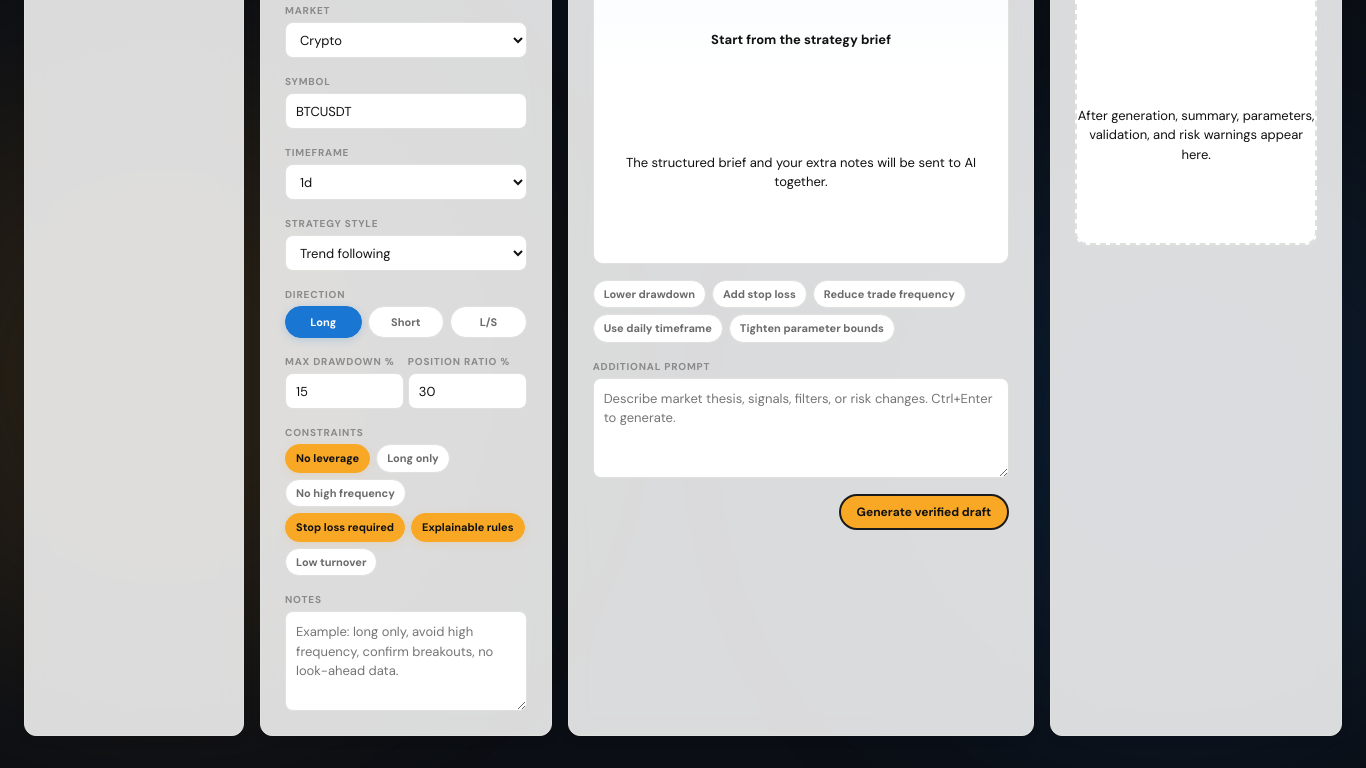
Test case: AiStrategyLabView › generates a draft and renders the verified draft panel
This screenshot has width=1366, height=768.
(page scrolled)
Replace the text in the text box with test id "ai-lab-prompt" with "Build a BTC trend strategy" at (801, 428), box x1=593 y1=378 x2=1009 y2=478
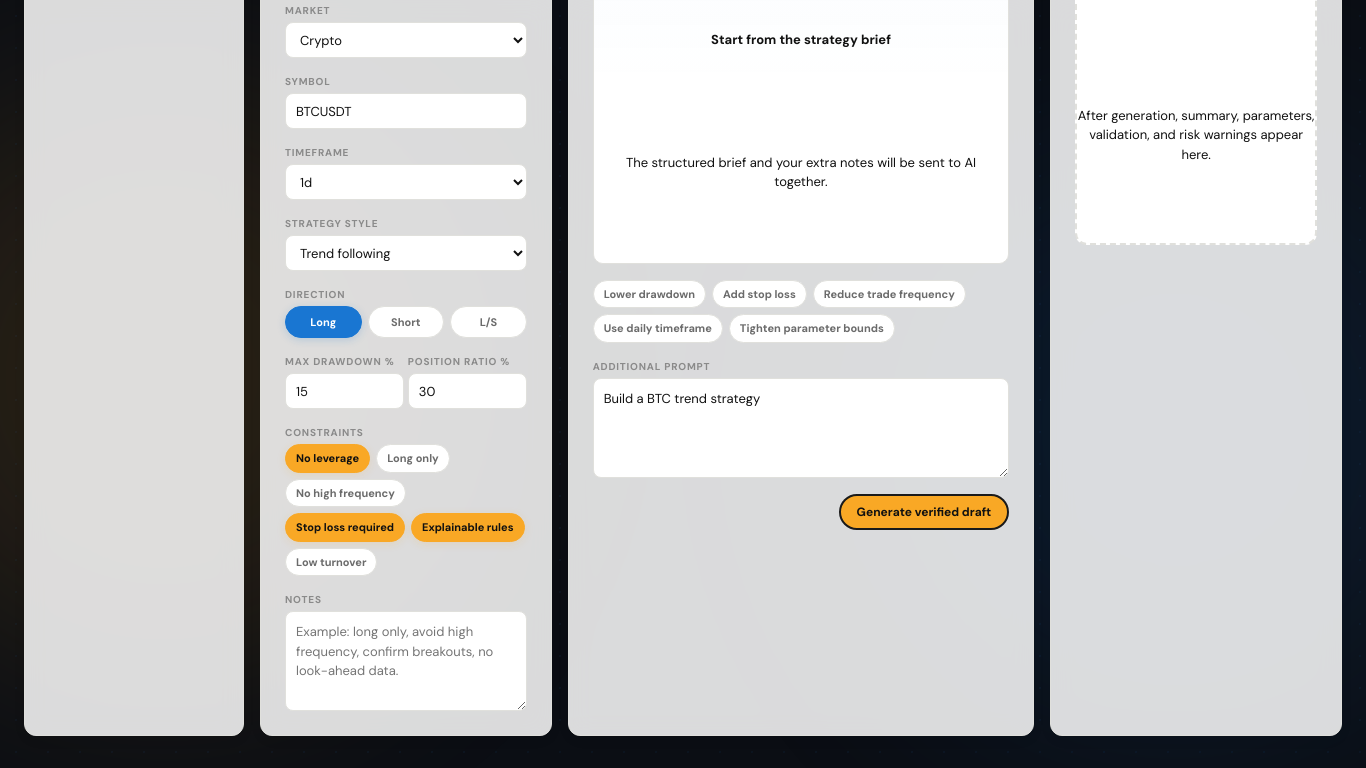
Click the button with test id "ai-lab-generate" at (924, 512), box x1=839 y1=494 x2=1009 y2=530
(page scrolled)
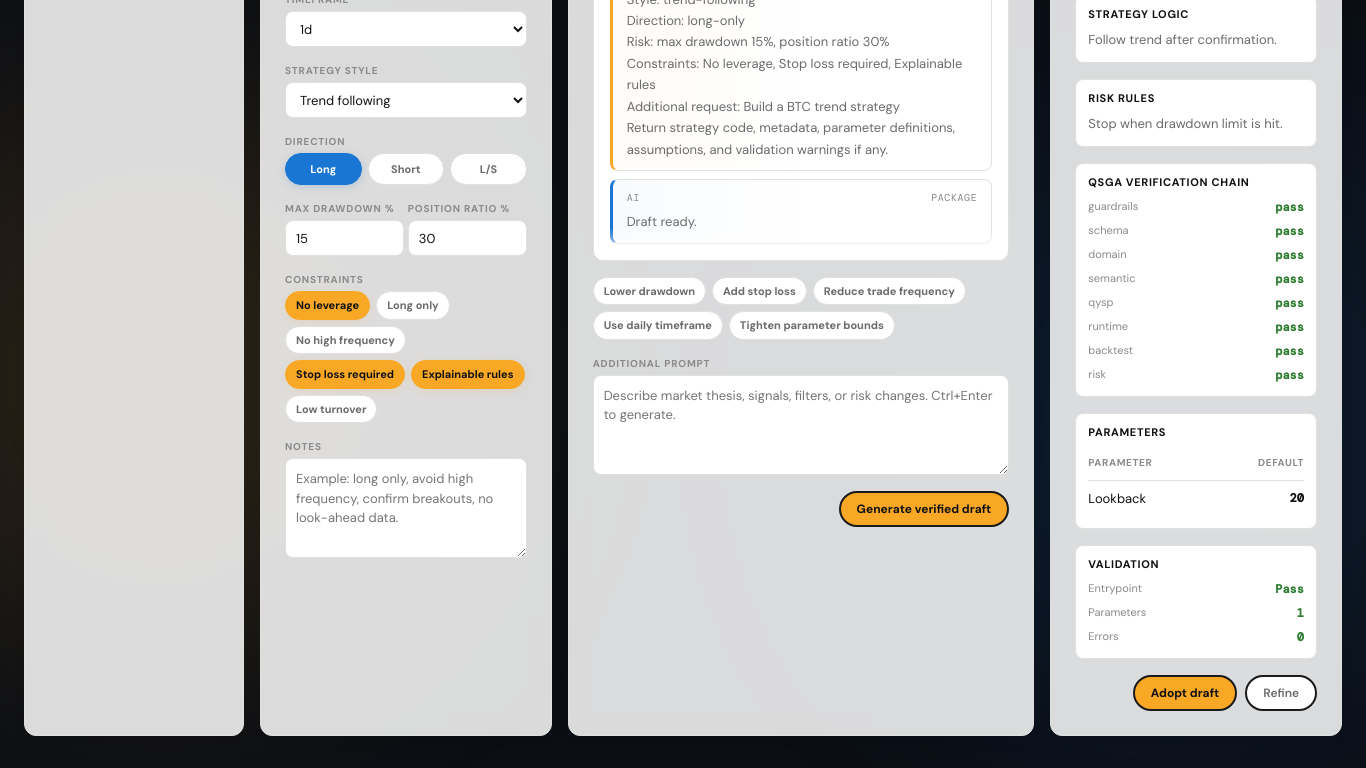
Expected: the text "Lookback" is shown, x1=1088 y1=490 x2=1146 y2=507
Expected: the button with test id "ai-lab-adopt" is enabled, x1=1133 y1=674 x2=1237 y2=710
